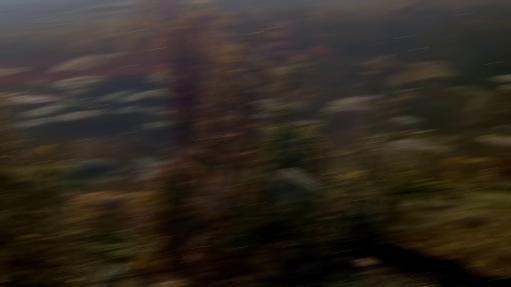Fish: (58, 158, 157, 186), (383, 61, 454, 87), (260, 18, 297, 57), (283, 168, 324, 190), (72, 52, 119, 71), (388, 139, 449, 153), (53, 53, 98, 71), (51, 76, 104, 89), (120, 89, 169, 102), (134, 157, 161, 180), (22, 103, 69, 116), (322, 101, 373, 112), (58, 109, 107, 120), (470, 93, 493, 113), (304, 45, 337, 58), (19, 117, 60, 127), (10, 95, 61, 103), (99, 90, 134, 101), (333, 98, 370, 108), (480, 134, 510, 145), (150, 65, 167, 82), (332, 97, 365, 105), (70, 98, 95, 108), (274, 65, 293, 78), (258, 99, 279, 110), (0, 67, 28, 74), (141, 107, 168, 114), (394, 116, 419, 123), (114, 106, 139, 113), (148, 121, 171, 128), (4, 90, 25, 97), (67, 90, 90, 95), (494, 74, 510, 81), (28, 79, 43, 86), (256, 113, 273, 118), (500, 85, 510, 90)
